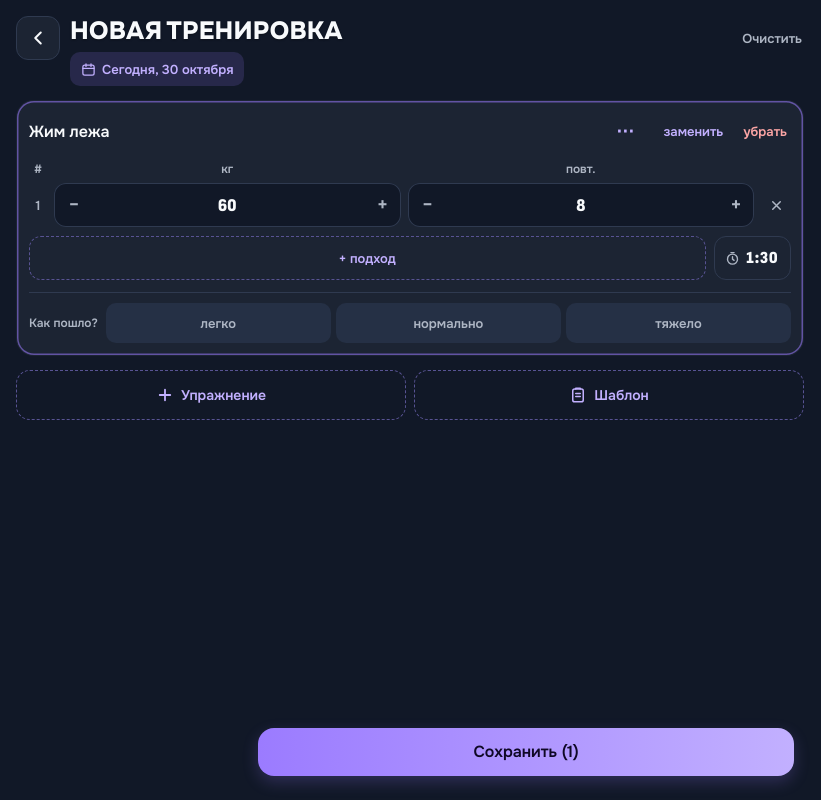
Test: WorkoutScreen — добавление › то же упражнение второй раз — «уже добавлено», пикер закрыт, дубля нет
Click the button with aria-label "Добавить упражнение" at {"x": 211, "y": 395}, box [16, 370, 406, 420]
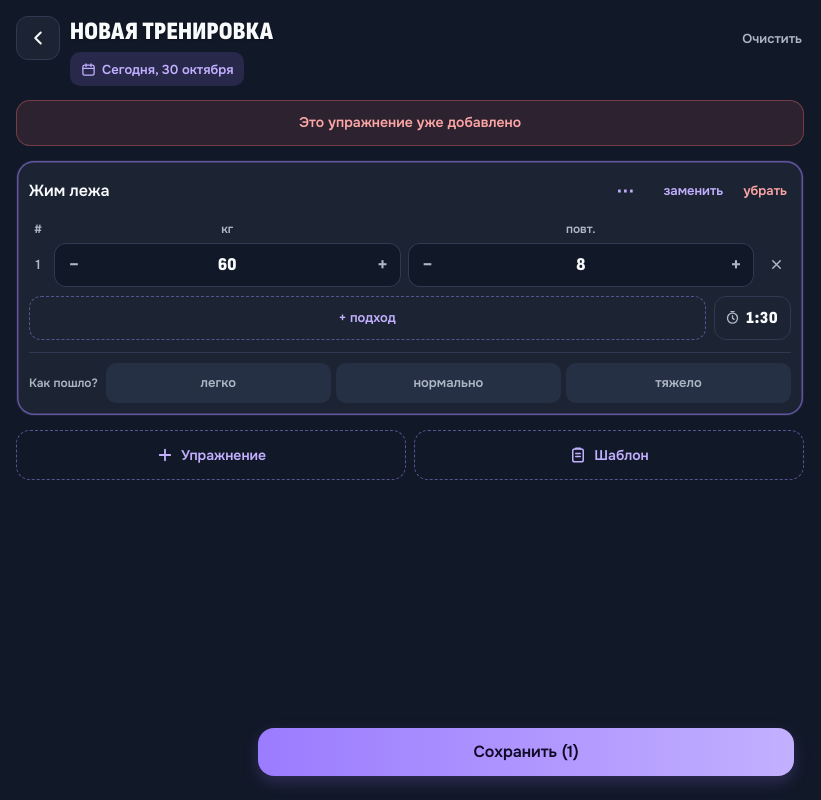
Now the text "Это упражнение уже добавлено" is shown, box [16, 100, 804, 146]
